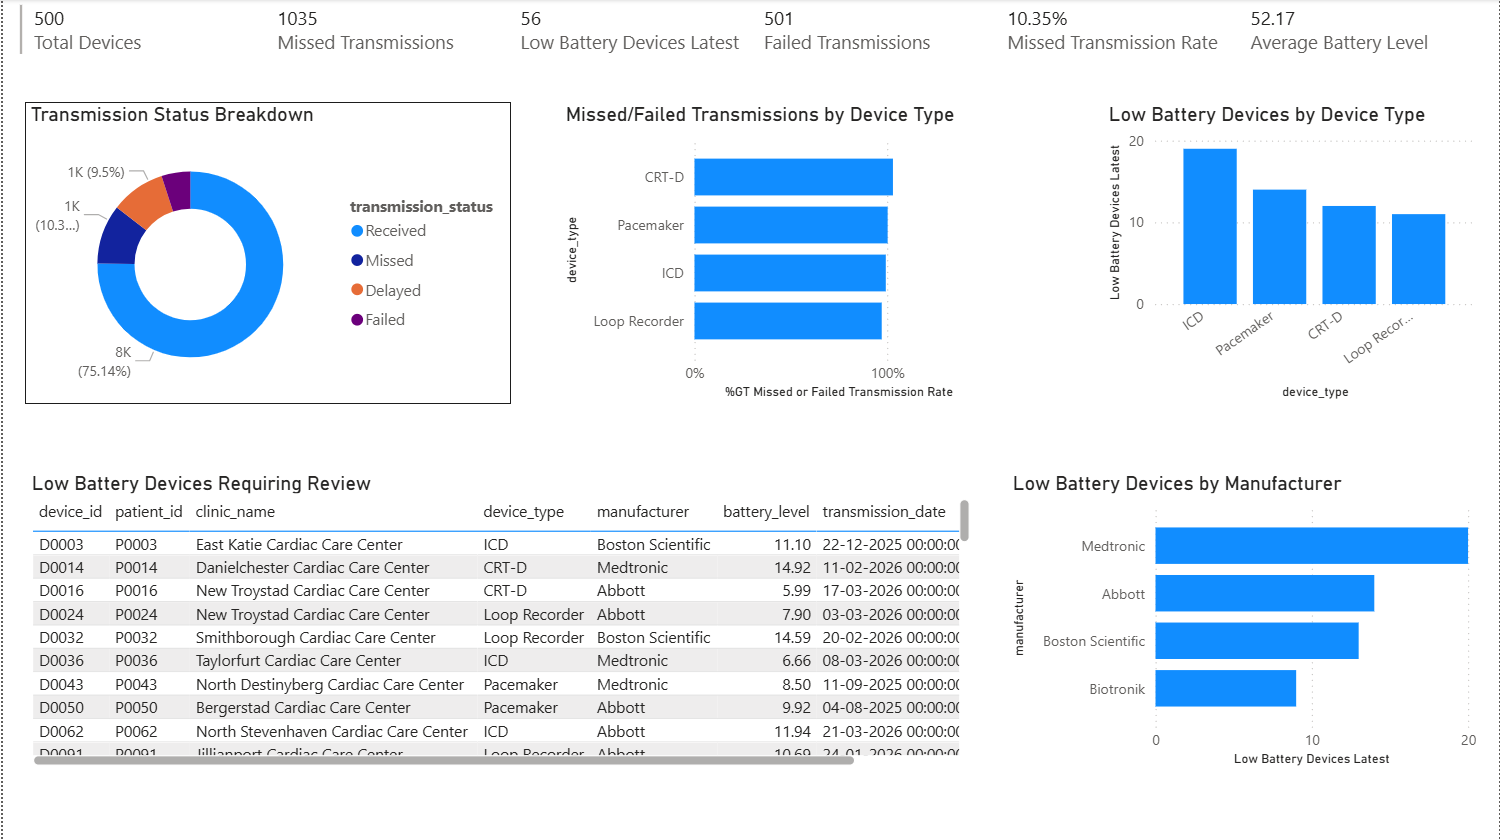

The dashboard page shown, as its layout file describes it:
{"tool":"powerbi","page":{"name":"device_monitoring","canvas":[1280,720],"ordinal":2},"visuals":[{"type":"multiRowCard","fields":{"Values":["public appointments.Total Devices","public appointments.Missed Transmissions","public appointments.Low Battery Devices Latest","public appointments.Failed Transmissions","public appointments.Missed Transmission Rate","public appointments.Average Battery Level"]},"box":[9.5,0,1270.5,76.8],"z":0},{"type":"donutChart","title":"Transmission Status Breakdown","fields":{"Category":["public vw_transmission_summary.transmission_status"],"Y":["public appointments.Total Transmissions"]},"box":[19,88,415.7,258.8],"z":1000},{"type":"barChart","title":"Missed/Failed Transmissions by Device Type","fields":{"Category":["public vw_transmission_summary.device_type"],"Y":["public appointments.Missed or Failed Transmission Rate"]},"box":[476.1,88,382.1,258.8],"z":2000},{"type":"columnChart","title":"Low Battery Devices by Device Type","fields":{"Category":["Latest_Device_Status.device_type"],"Y":["public appointments.Low Battery Devices Latest"]},"box":[941,88,323.5,258.8],"z":3000},{"type":"barChart","title":"Low Battery Devices by Manufacturer","fields":{"Y":["public appointments.Low Battery Devices Latest"],"Category":["Latest_Device_Status.manufacturer"]},"box":[858.2,403.7,406.3,257],"z":4000},{"type":"tableEx","title":"Low Battery Devices Requiring Review","fields":{"Values":["Latest_Device_Status.device_id","Latest_Device_Status.patient_id","Latest_Device_Status.clinic_name","Latest_Device_Status.device_type","Latest_Device_Status.manufacturer","Latest_Device_Status.battery_level","Latest_Device_Status.transmission_date","Latest_Device_Status.signal_quality"]},"box":[19.5,403.6,812.2,256.8],"z":5000}]}

Visuals, with their boxes in screenshot pixels (x1, y1, x2, y2), scaled from the page's 1280x720 canvas onto the 1500x839 screenshot:
multiRowCard - public appointments.Total Devices x public appointments.Missed Transmissions: <box>11,0,1499,89</box>
"Transmission Status Breakdown" donutChart: <box>22,103,509,404</box>
"Missed/Failed Transmissions by Device Type" barChart: <box>558,103,1006,404</box>
"Low Battery Devices by Device Type" columnChart: <box>1103,103,1482,404</box>
"Low Battery Devices by Manufacturer" barChart: <box>1006,470,1482,770</box>
"Low Battery Devices Requiring Review" tableEx: <box>23,470,975,770</box>
